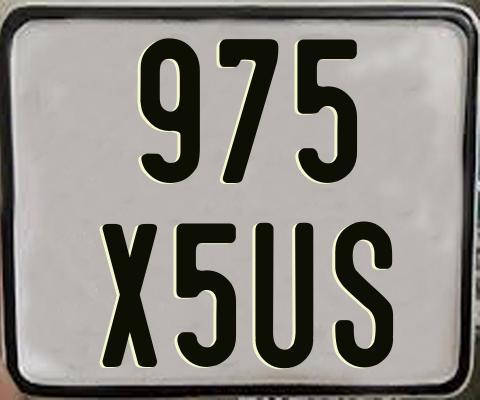5: (176, 220, 241, 367), (296, 39, 357, 185)
7: (218, 37, 279, 182)
9: (137, 35, 202, 181)
S: (335, 221, 396, 369)
U: (252, 220, 311, 369)
X: (99, 224, 159, 369)
